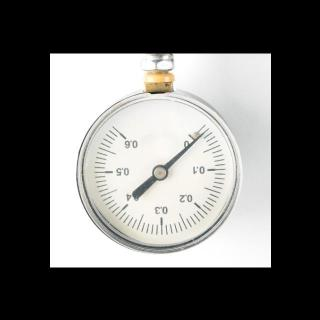gauge: (54, 81, 270, 267), (184, 125, 208, 147), (114, 126, 134, 146), (151, 163, 169, 181), (202, 126, 210, 136)
